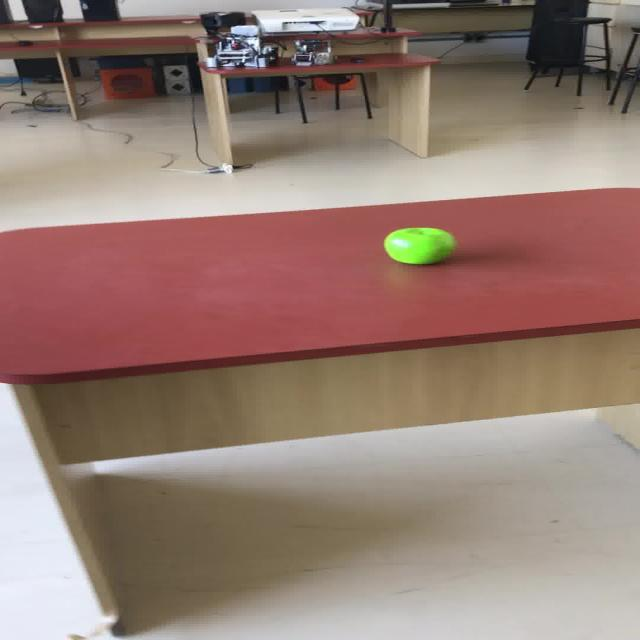apple: (382, 227, 455, 264)
